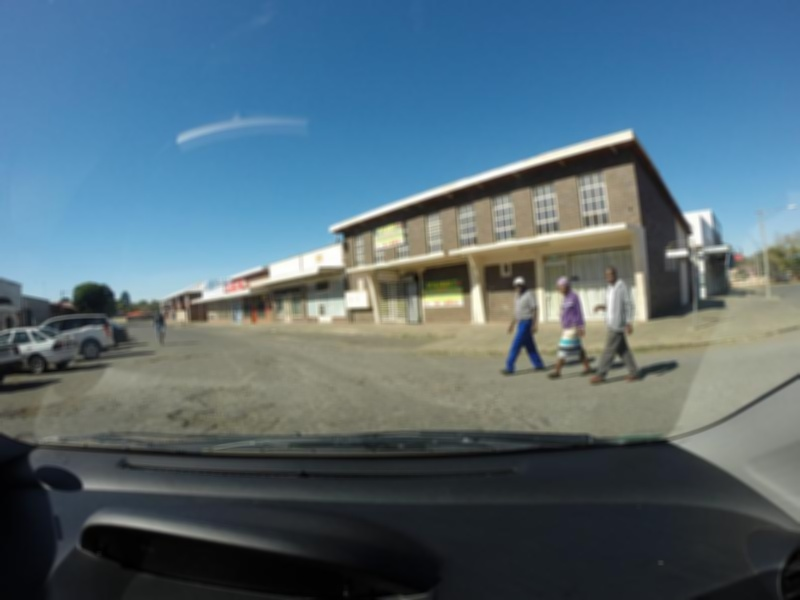pothole: (162, 383, 286, 432), (1, 392, 123, 426), (149, 350, 213, 365), (252, 350, 286, 369)
